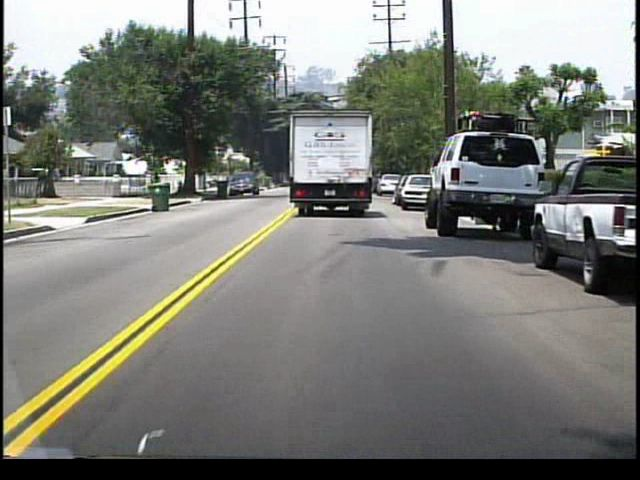person: (152, 169, 163, 196)
